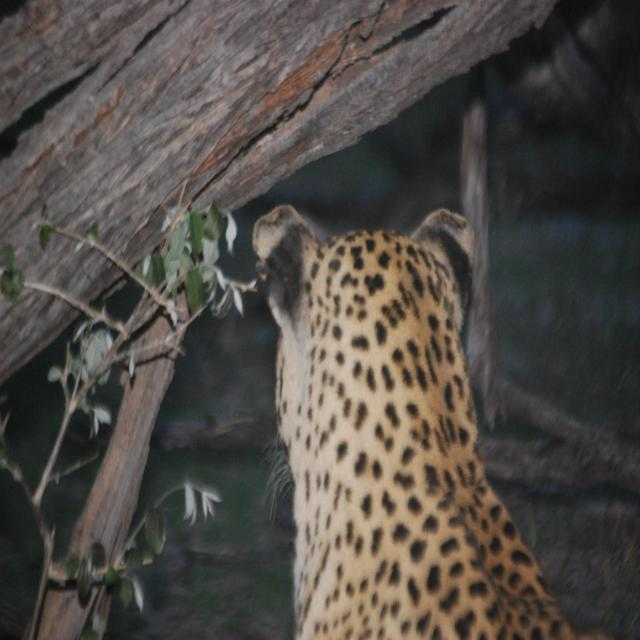Leopard: (246, 195, 620, 640)
